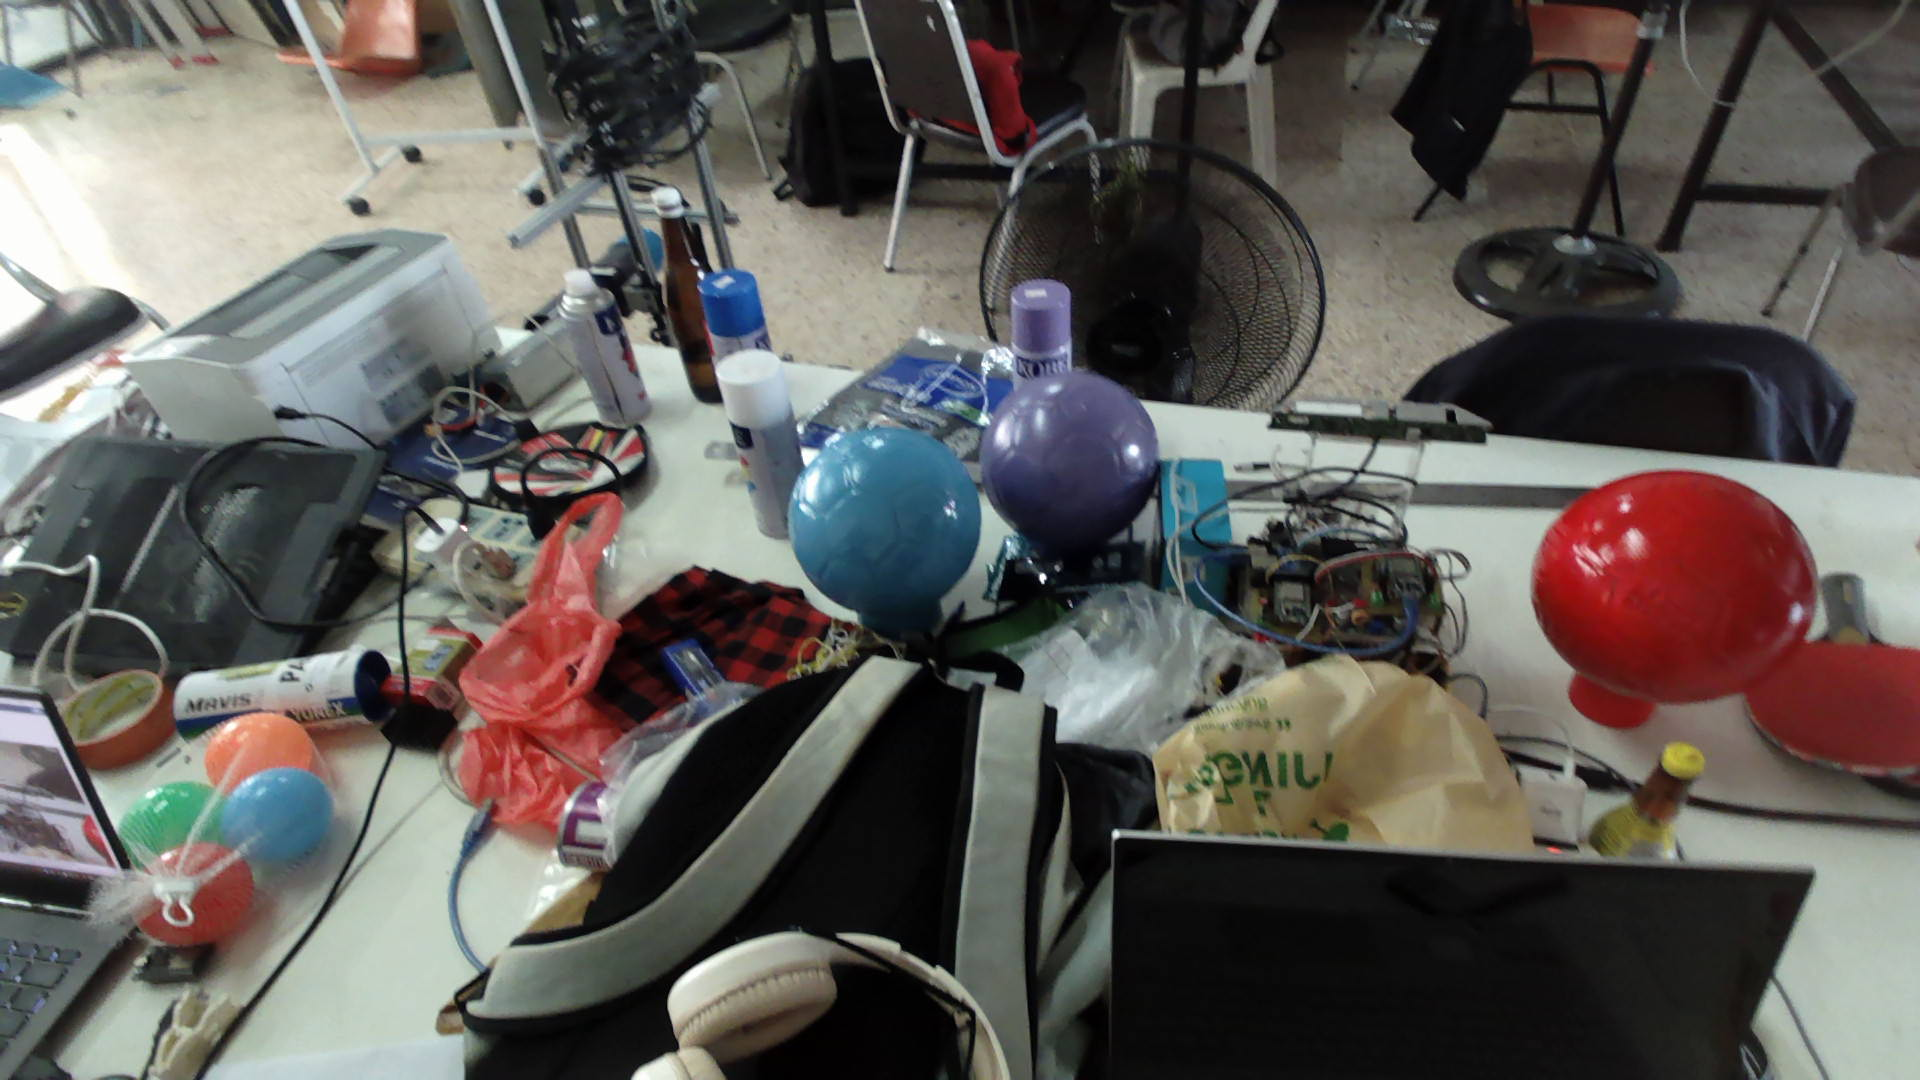Blue ball: (785, 427, 981, 617)
Purple ball: (977, 367, 1163, 556)
Red ball: (1528, 468, 1822, 707)
